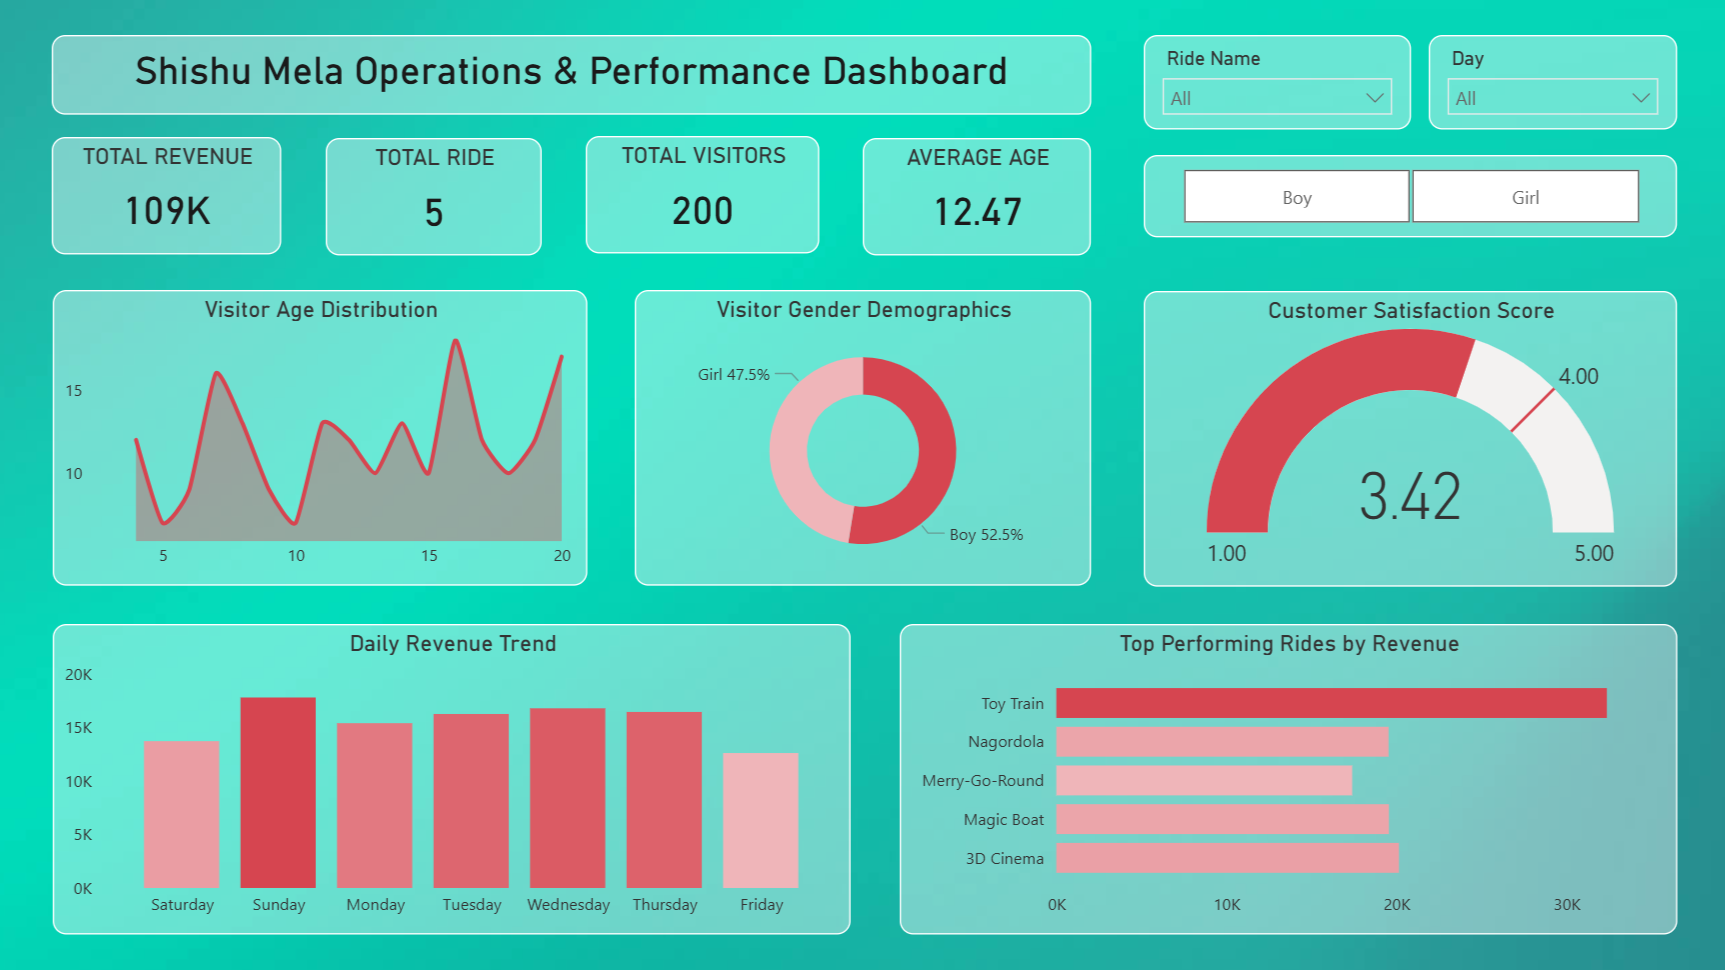

The page's visual inventory and layout, read from the dashboard file:
{"tool":"powerbi","page":{"name":"Page 1","canvas":[1280,720],"ordinal":0},"visuals":[{"type":"clusteredBarChart","title":"Top Performing Rides by Revenue","fields":{"Y":["Sum(Shishumela 200dataset.Ticket_Price)"],"Category":["Shishumela 200dataset.Ride_Name"]},"box":[667.2,462.2,575.8,229.5],"z":0},{"type":"clusteredColumnChart","title":"Daily Revenue Trend","fields":{"Category":["Shishumela 200dataset.Day"],"Y":["Sum(Shishumela 200dataset.Ticket_Price)"]},"box":[39.9,462.2,591.4,229.5],"z":1000},{"type":"donutChart","title":"Visitor Gender Demographics","fields":{"Category":["Shishumela 200dataset.Gender"],"Y":["CountNonNull(Shishumela 200dataset.Gender)"]},"box":[471,215,338,219],"z":2000},{"type":"gauge","title":"Customer Satisfaction Score","fields":{"Y":["Avg(Shishumela 200dataset.Satisfaction (1-5))"]},"box":[848.1,215.3,394.9,218.8],"z":3000},{"type":"areaChart","title":"Visitor Age Distribution","fields":{"Y":["CountNonNull(Shishumela 200dataset.Visitor_Age)"],"Category":["Shishumela 200dataset.Visitor_Age"]},"box":[40,215,396,219],"z":4000},{"type":"card","title":"TOTAL REVENUE","fields":{"Values":["Sum(Shishumela 200dataset.Ticket_Price)"]},"box":[38.9,101.5,170.2,86.6],"z":5000},{"type":"card","title":"TOTAL RIDE","fields":{"Values":["Count(Shishumela 200dataset.Ride_Name)"]},"box":[242,102,160,87],"z":6000},{"type":"card","title":"TOTAL VISITORS","fields":{"Values":["CountNonNull(Shishumela 200dataset.Ride_Name)"]},"box":[435,101,173,87],"z":7000},{"type":"card","title":"AVERAGE AGE","fields":{"Values":["Avg(Shishumela 200dataset.Visitor_Age)"]},"box":[640,102.5,169.2,86.6],"z":8000},{"type":"slicer","fields":{"Values":["Shishumela 200dataset.Day"]},"box":[1059,26,184,70],"z":9000},{"type":"slicer","fields":{"Values":["Shishumela 200dataset.Ride_Name"]},"box":[848,26,198,70],"z":10000},{"type":"slicer","fields":{"Values":["Shishumela 200dataset.Gender"]},"box":[848.1,114.8,394.9,61.3],"z":11000},{"type":"textbox","box":[39,26,770,59],"z":12000}]}

Visuals, with their boxes in screenshot pixels (x1, y1, x2, y2), scaled from the page's 1280x720 canvas onto the 1725x970 screenshot:
"Top Performing Rides by Revenue" clusteredBarChart: bbox=[899, 623, 1675, 932]
"Daily Revenue Trend" clusteredColumnChart: bbox=[54, 623, 851, 932]
"Visitor Gender Demographics" donutChart: bbox=[635, 290, 1090, 585]
"Customer Satisfaction Score" gauge: bbox=[1143, 290, 1675, 585]
"Visitor Age Distribution" areaChart: bbox=[54, 290, 588, 585]
"TOTAL REVENUE" card: bbox=[52, 137, 282, 253]
"TOTAL RIDE" card: bbox=[326, 137, 542, 255]
"TOTAL VISITORS" card: bbox=[586, 136, 819, 253]
"AVERAGE AGE" card: bbox=[862, 138, 1091, 255]
slicer - Shishumela 200dataset.Day: bbox=[1427, 35, 1675, 129]
slicer - Shishumela 200dataset.Ride_Name: bbox=[1143, 35, 1410, 129]
slicer - Shishumela 200dataset.Gender: bbox=[1143, 155, 1675, 237]
textbox: bbox=[53, 35, 1090, 115]
